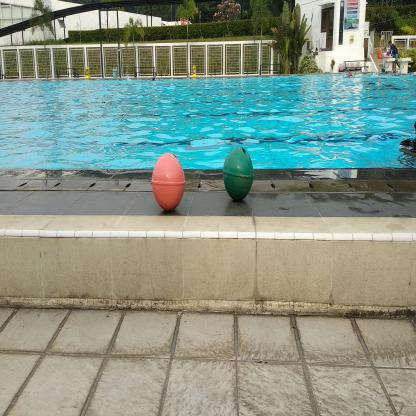green_buoy: (222, 142, 256, 206)
red_buoy: (151, 149, 186, 213)
